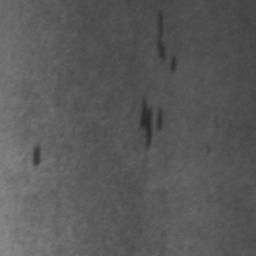Inclusion: (141, 99, 155, 147), (157, 12, 166, 60), (32, 146, 42, 166), (157, 110, 164, 129), (170, 58, 178, 73)
